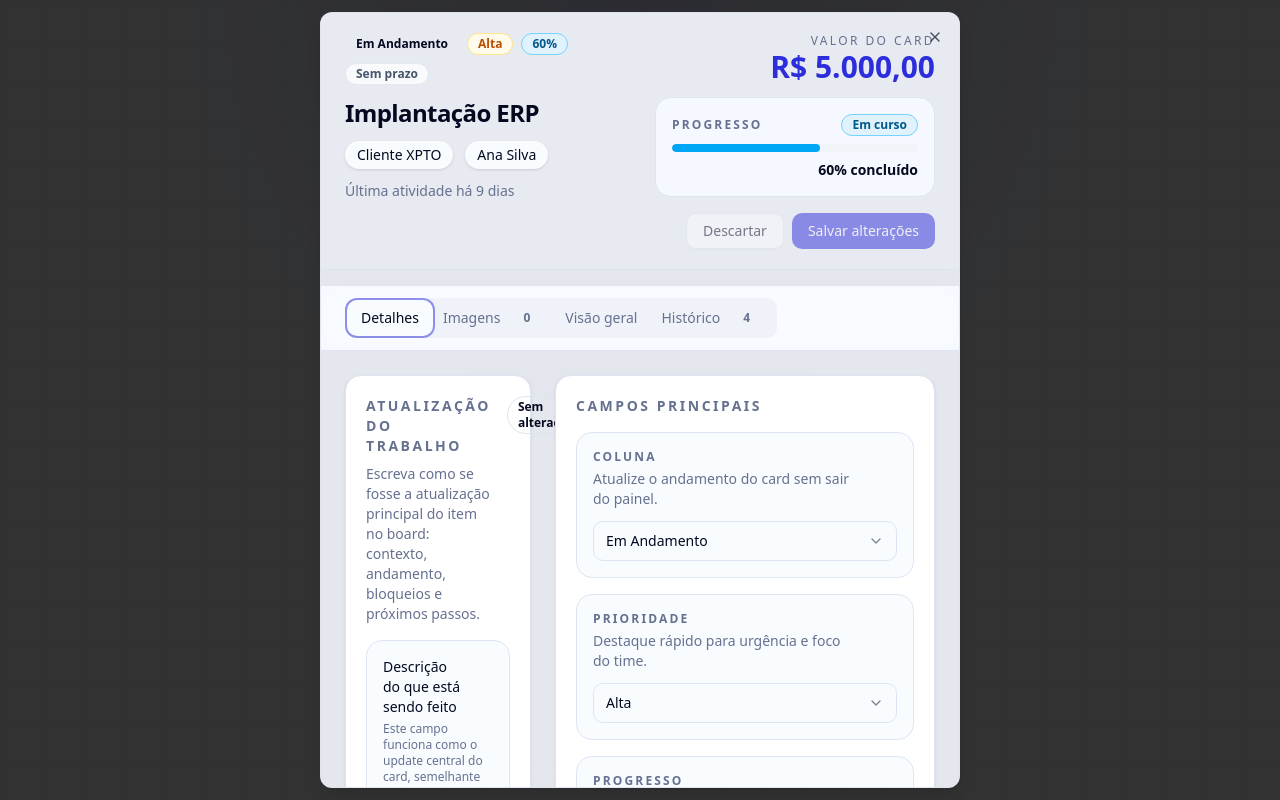
Test case: DealDetailsModal › destaca o ultimo update manual e resume os filtros do historico
This screenshot has width=1280, height=800.
Click the tab "Visão geral". click: (601, 318)
box: [553, 302, 650, 334]
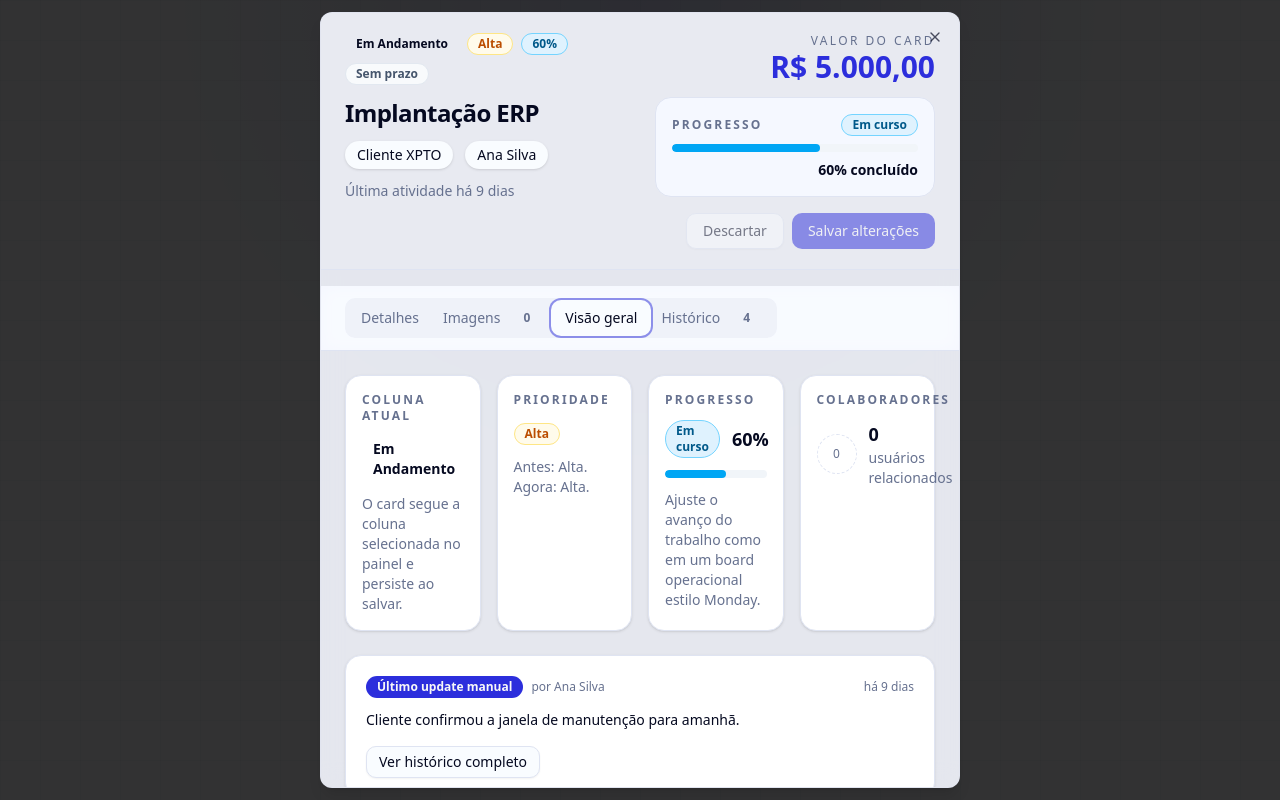
Expected: the text "Último update manual" is shown, [366, 676, 523, 698]
Expected: the text "Cliente confirmou a janela de manutenção para amanhã." is shown, [366, 710, 740, 729]
Click the tab "Histórico 4". click: (711, 318)
box: [650, 301, 773, 335]
(page scrolled)
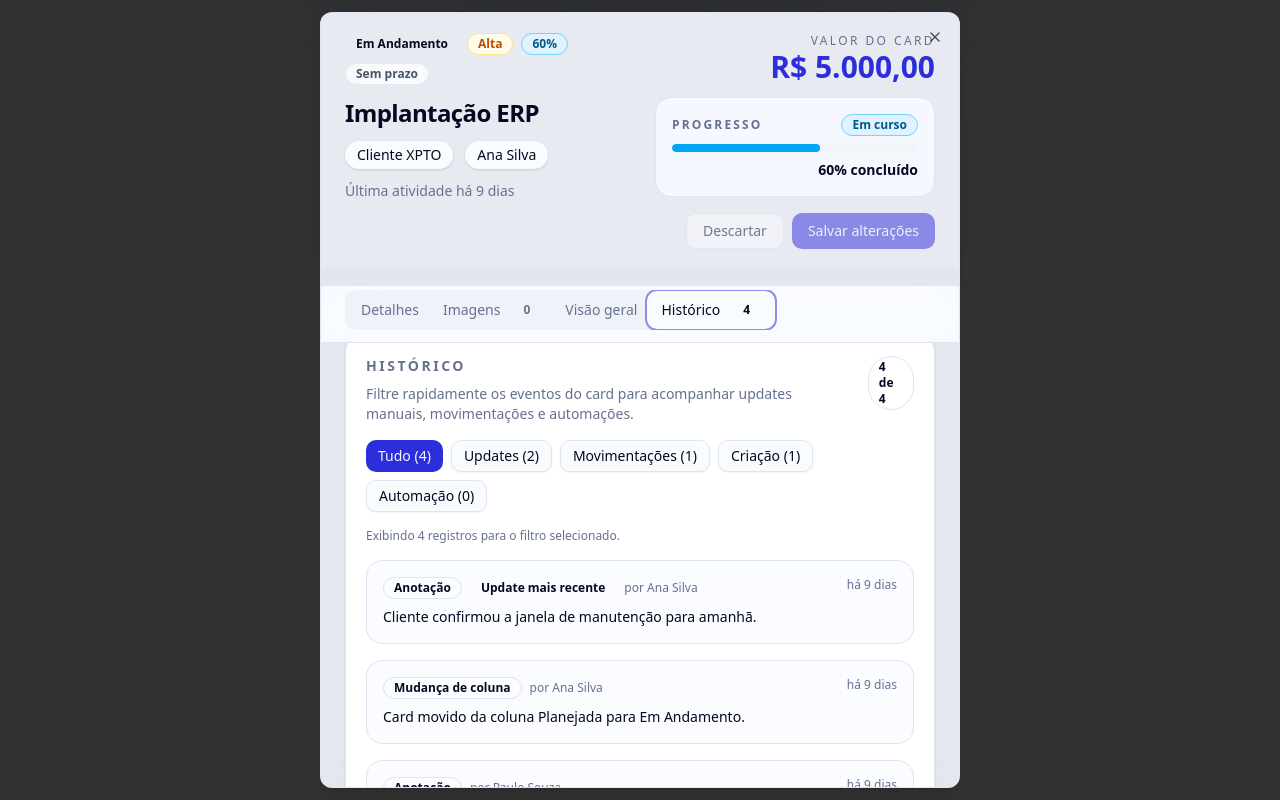
Expected: the button "Updates (2)" is shown, [451, 440, 552, 472]
Expected: the button "Movimentações (1)" is shown, [560, 440, 710, 472]
Expected: the text "Exibindo 4 registros para o filtro selecionado." is shown, [366, 527, 620, 544]
